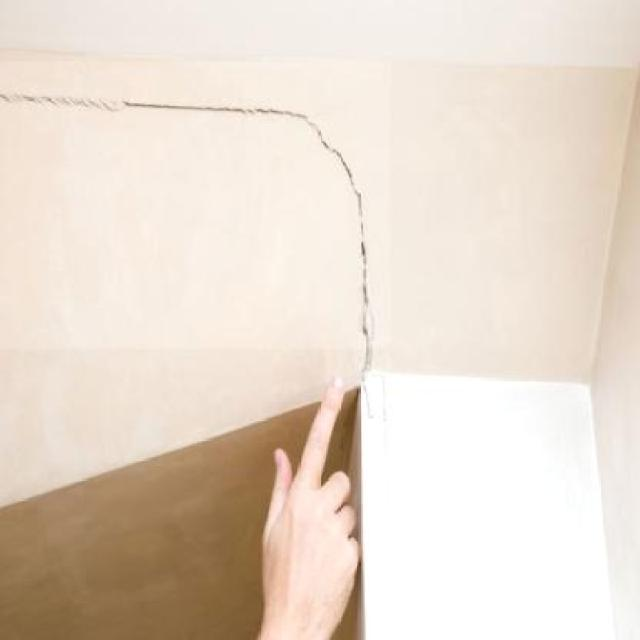Crack: (0, 71, 368, 163), (327, 167, 395, 375)
